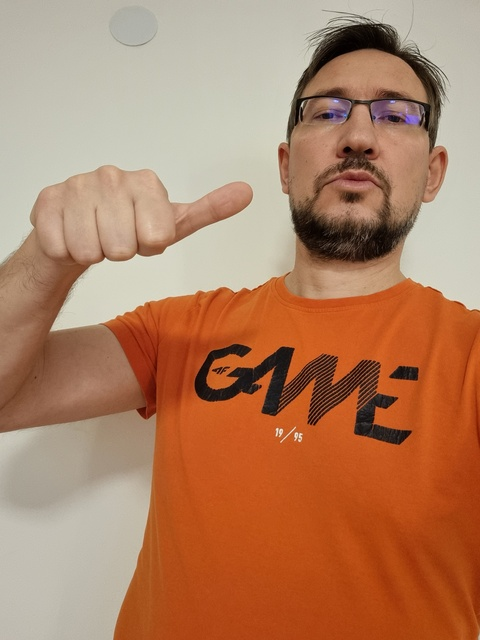GestBack: (34, 166, 253, 264)
